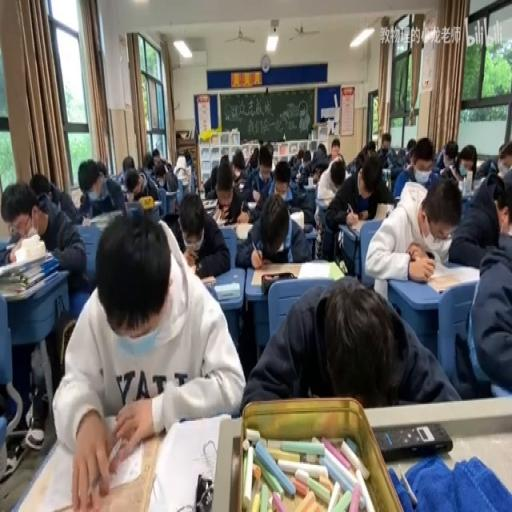calculator: (251, 259, 344, 284), (424, 263, 478, 293), (88, 209, 118, 230), (214, 282, 240, 300), (233, 222, 254, 240), (70, 184, 83, 208), (289, 209, 304, 229), (318, 189, 334, 206), (470, 176, 485, 192), (211, 205, 224, 222), (200, 273, 216, 286), (201, 196, 216, 209), (174, 154, 186, 170), (303, 182, 316, 195), (303, 222, 315, 235), (80, 215, 92, 226), (246, 201, 257, 209), (5, 242, 15, 250), (152, 198, 162, 204)
paper: (56, 206, 243, 512), (242, 276, 456, 410), (0, 175, 87, 444), (323, 150, 394, 264), (448, 169, 510, 272), (237, 186, 312, 268), (176, 188, 231, 277), (76, 158, 122, 219), (392, 135, 438, 196), (242, 145, 275, 203), (474, 140, 510, 180), (205, 151, 234, 196), (150, 156, 180, 194), (124, 165, 149, 201), (455, 145, 477, 181), (436, 139, 458, 172), (30, 174, 52, 204), (376, 132, 392, 164), (493, 180, 506, 214), (230, 148, 244, 179), (329, 162, 344, 189), (274, 164, 290, 188), (425, 168, 440, 189), (294, 163, 308, 185), (330, 137, 342, 162), (186, 168, 196, 195), (312, 166, 326, 185), (142, 152, 154, 174), (288, 152, 300, 171), (122, 154, 134, 172), (405, 138, 415, 159), (96, 160, 106, 178), (315, 142, 326, 158), (354, 151, 364, 168), (366, 138, 376, 154), (403, 161, 414, 175), (184, 148, 193, 165), (302, 150, 310, 164), (152, 149, 161, 161), (498, 142, 506, 155), (219, 154, 229, 162)
person: (374, 422, 452, 461), (194, 471, 213, 509), (138, 194, 154, 208), (338, 257, 347, 273), (424, 249, 434, 257)
